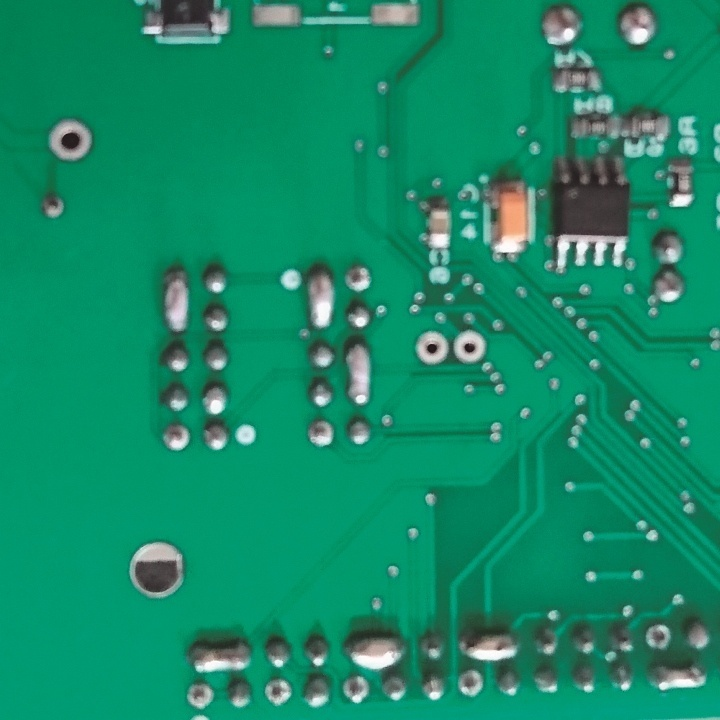F: (47, 116, 94, 165), (413, 328, 449, 368), (450, 329, 486, 365), (305, 417, 337, 450), (39, 190, 69, 223), (456, 667, 485, 701), (185, 679, 216, 709), (263, 674, 292, 706), (341, 673, 370, 705), (161, 422, 191, 452), (643, 622, 673, 652), (344, 263, 372, 292)
P: (341, 631, 408, 671), (188, 636, 255, 673), (160, 261, 193, 336), (305, 261, 338, 334), (344, 339, 376, 410), (457, 629, 521, 663), (650, 663, 707, 694)
